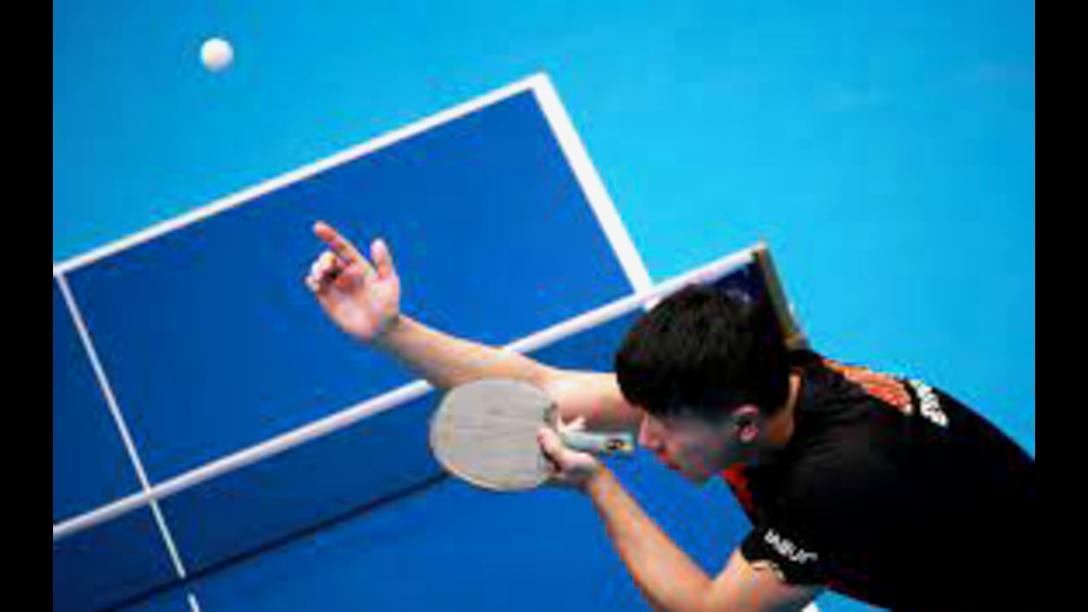Table-Tennis-Ball: (201, 40, 231, 70)
